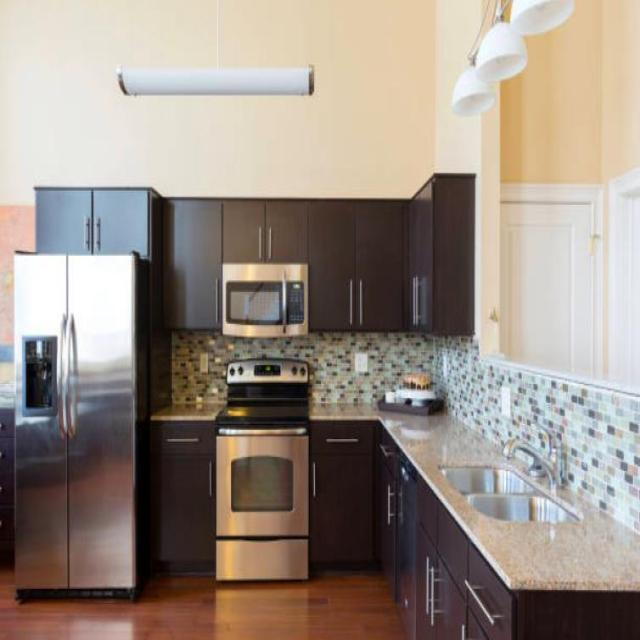dishwasher: (396, 445, 415, 639)
